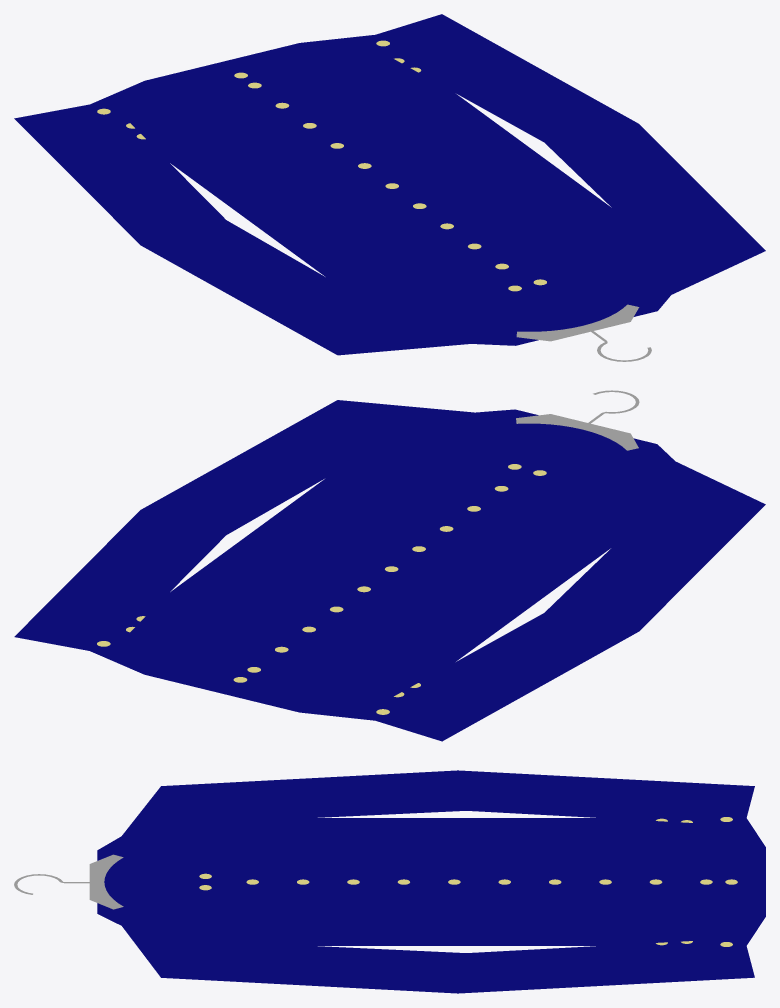
3 renders of one model, top to bottom at view 1: azimuth 30°, elevation 25°; view 2: azimuth 150°, elevation 25°; view 3: azimuth 270°, elevation 25°, orthographic. The views are drawn at different scales.
Visible parts, largest first — view 1: hung long sleeved men s shirt; view 2: hung long sleeved men s shirt; view 3: hung long sleeved men s shirt.
Boxes of the visible parts, x1,y1,x2,y2 form: hung long sleeved men s shirt: [14, 14, 765, 361]; hung long sleeved men s shirt: [14, 390, 765, 741]; hung long sleeved men s shirt: [14, 770, 765, 993].
Size of the model in its own units: 20.95 by 0 by 29.84.
